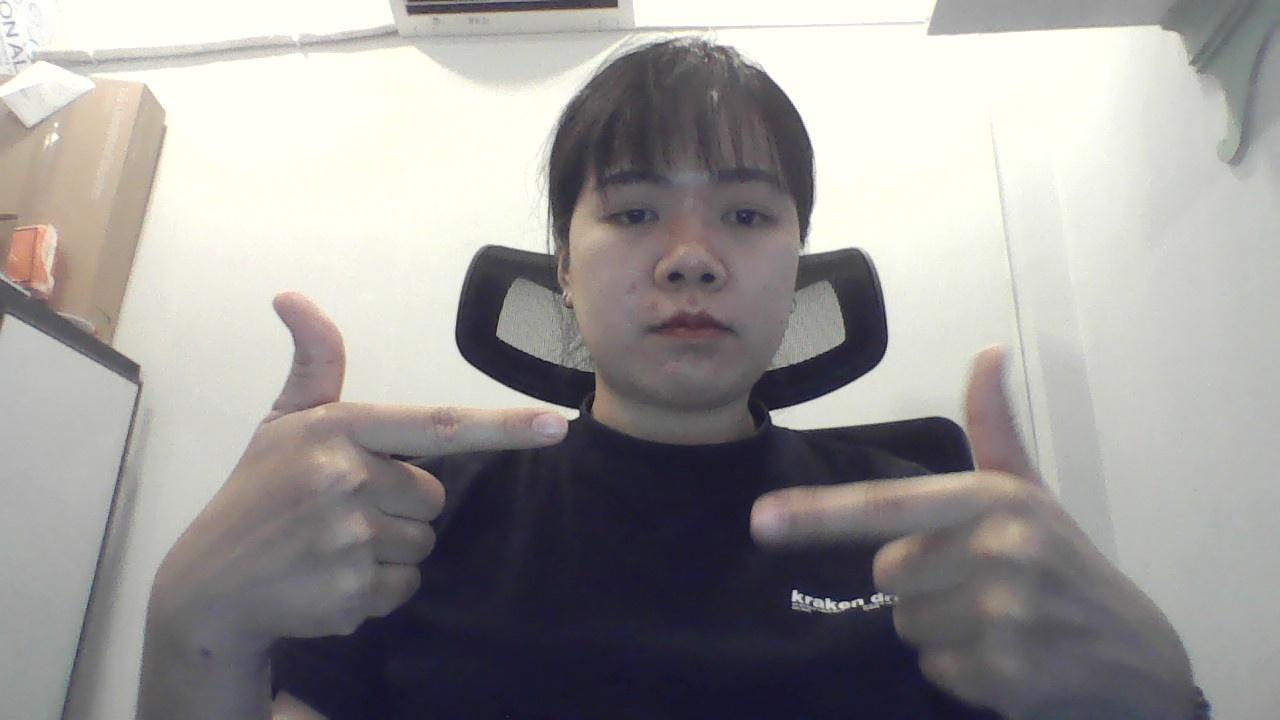G: (137, 268, 575, 698), (768, 336, 1226, 690)
